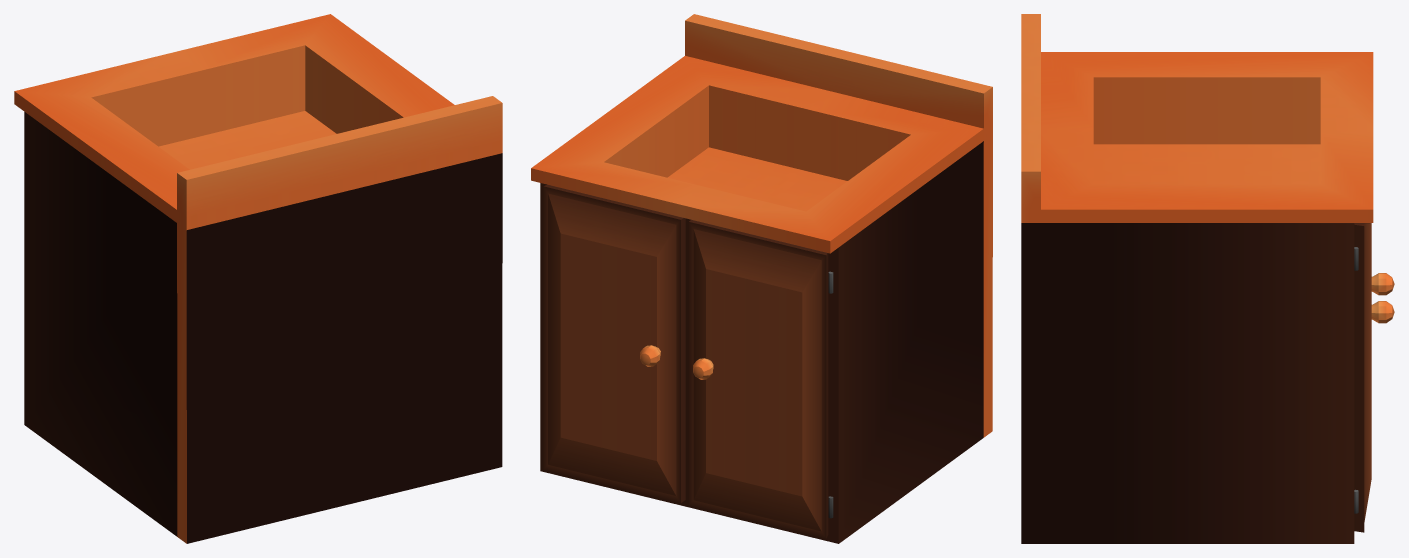
The model's file is counter sink.FBX.
3 renders of one model, left to right at view 1: azimuth 30°, elevation 25°; view 2: azimuth 150°, elevation 25°; view 3: azimuth 270°, elevation 25°, orthographic. The views are drawn at different scales.
Visible parts, largest first — view 1: counter sink; view 2: counter sink; view 3: counter sink.
Part boxes in pixels (x1,y1,x2,y2): counter sink: (14,14,502,543); counter sink: (531,14,992,543); counter sink: (1021,14,1394,543).
Size of the model in its own units: 69.65 by 76.61 by 69.6.
1 material, 1 textured.
